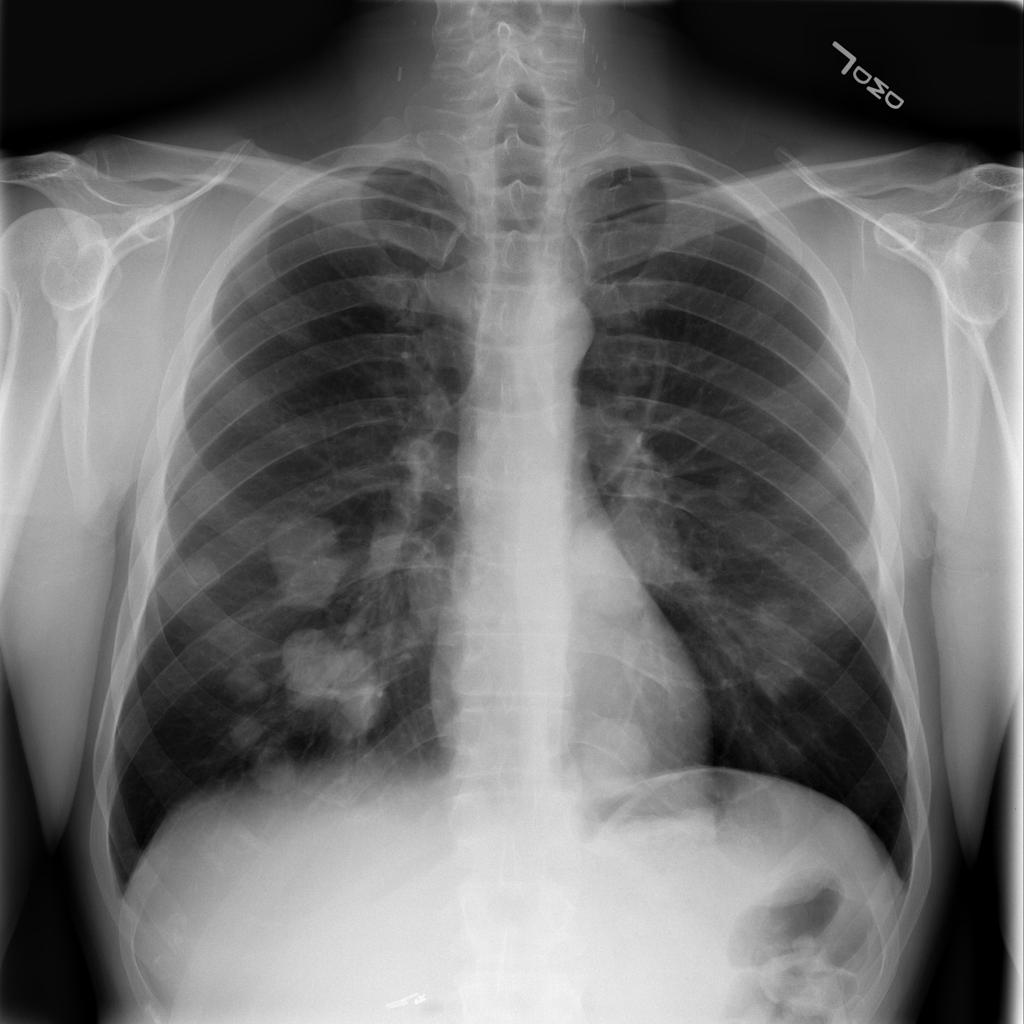nodule: (555, 489, 688, 625), (271, 618, 406, 750), (251, 495, 367, 621), (561, 704, 676, 810), (228, 724, 310, 792), (734, 643, 817, 710), (736, 578, 810, 644), (700, 451, 765, 523), (203, 646, 277, 709), (215, 699, 271, 745), (837, 529, 888, 579)
